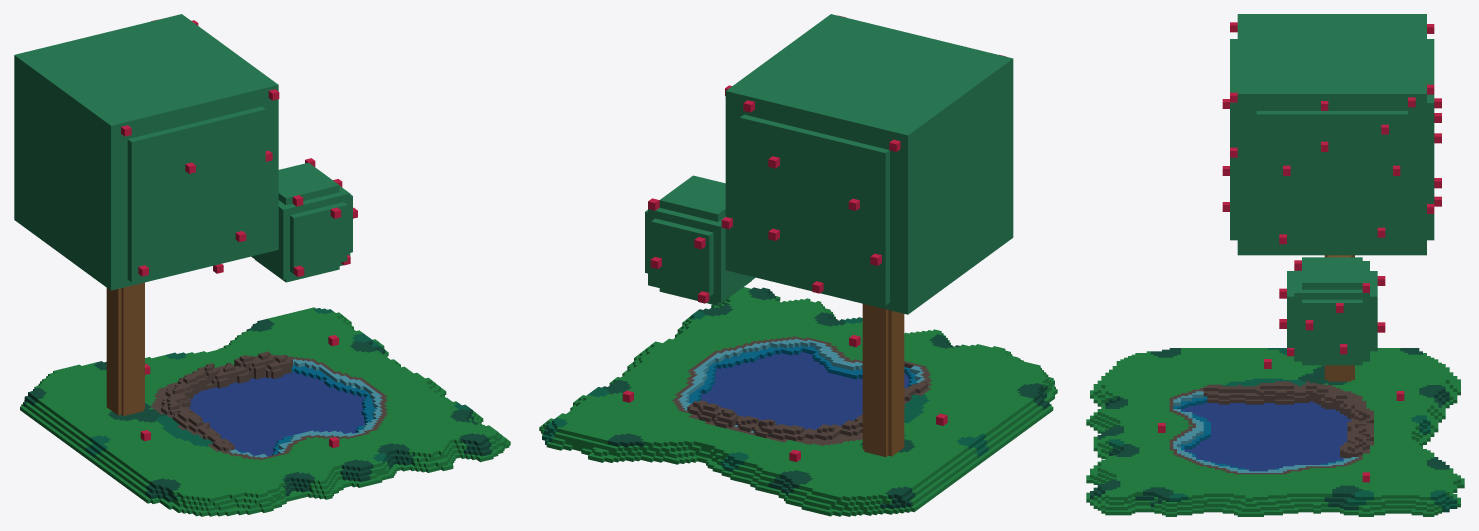
Rendered from TreeWithTeich-0.obj.
3 views of the same model, side by side, from view 1: azimuth 30°, elevation 25°; view 2: azimuth 150°, elevation 25°; view 3: azimuth 270°, elevation 25° (orthographic). The views are drawn at different scales.
Size of the model in its own units: 10 by 10 by 10.
Materials: 1 (1 with a texture image).
